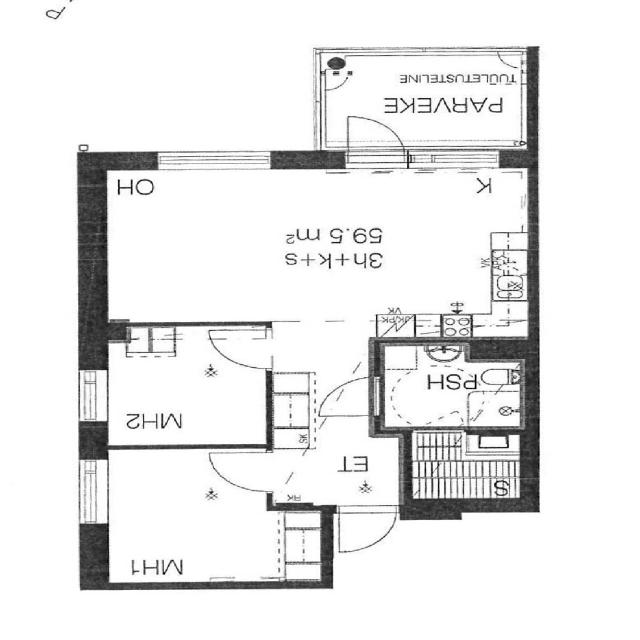door: (198, 444, 281, 496), (329, 502, 403, 556), (201, 323, 276, 373), (339, 112, 407, 162), (319, 376, 378, 420), (464, 162, 500, 198), (493, 46, 530, 70)
window: (70, 452, 116, 534), (148, 147, 280, 174), (70, 363, 112, 427)
zone: (94, 165, 526, 324), (95, 446, 322, 587), (98, 323, 269, 446), (374, 341, 532, 430), (410, 428, 530, 508)
